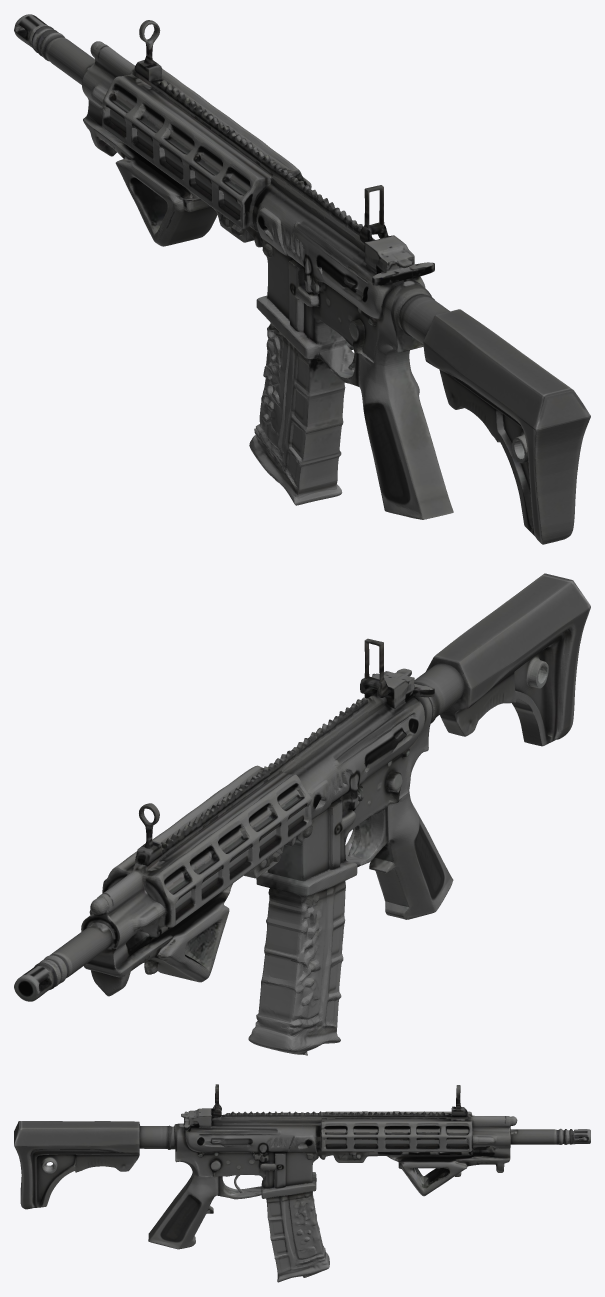
The model's file is CARBINE.glb.
3 views of the same model, one above another, from view 1: azimuth 30°, elevation 25°; view 2: azimuth 150°, elevation 25°; view 3: azimuth 270°, elevation 25° (orthographic). The views are drawn at different scales.
Parts seen in each view (by area): view 1: tripo_node_7eca2222-b70d-42c4-8b4b-b9e2937b2df0; view 2: tripo_node_7eca2222-b70d-42c4-8b4b-b9e2937b2df0; view 3: tripo_node_7eca2222-b70d-42c4-8b4b-b9e2937b2df0.
Boxes of the visible parts, <box> form: tripo_node_7eca2222-b70d-42c4-8b4b-b9e2937b2df0: <box>14,14,590,544</box>; tripo_node_7eca2222-b70d-42c4-8b4b-b9e2937b2df0: <box>14,573,590,1055</box>; tripo_node_7eca2222-b70d-42c4-8b4b-b9e2937b2df0: <box>14,1084,590,1282</box>.
Bounding box in the file's own units: 0.0783 × 0.3663 × 1.
Materials: 1 (1 with a texture image).
